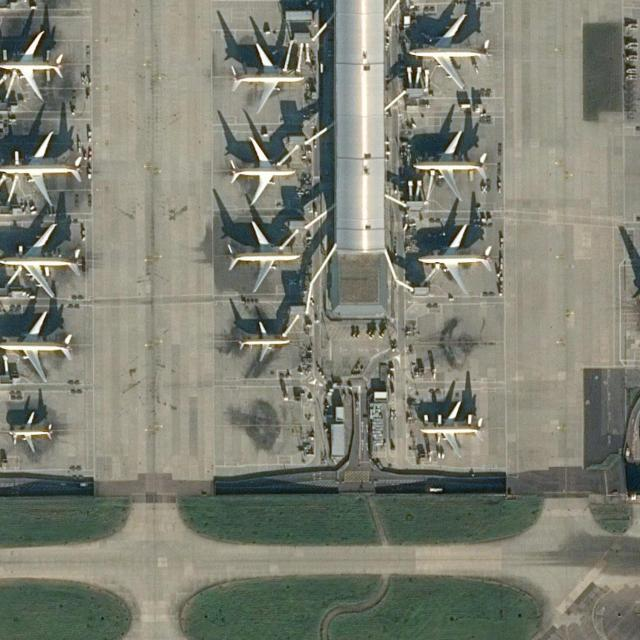Aircraft: (407, 12, 489, 92), (406, 13, 492, 89), (0, 131, 86, 206), (0, 129, 82, 206), (0, 221, 82, 297), (0, 222, 80, 297), (415, 221, 493, 296), (411, 129, 490, 202), (409, 129, 488, 202), (223, 220, 301, 292), (415, 223, 493, 295), (227, 40, 304, 112), (226, 220, 302, 292), (227, 43, 305, 113), (0, 309, 73, 383), (0, 310, 73, 382), (226, 135, 298, 205), (225, 137, 295, 207), (1, 30, 67, 102), (0, 29, 64, 101), (418, 398, 484, 456), (419, 397, 483, 455), (236, 319, 290, 362), (237, 322, 290, 364), (7, 409, 54, 453), (9, 410, 53, 452)
